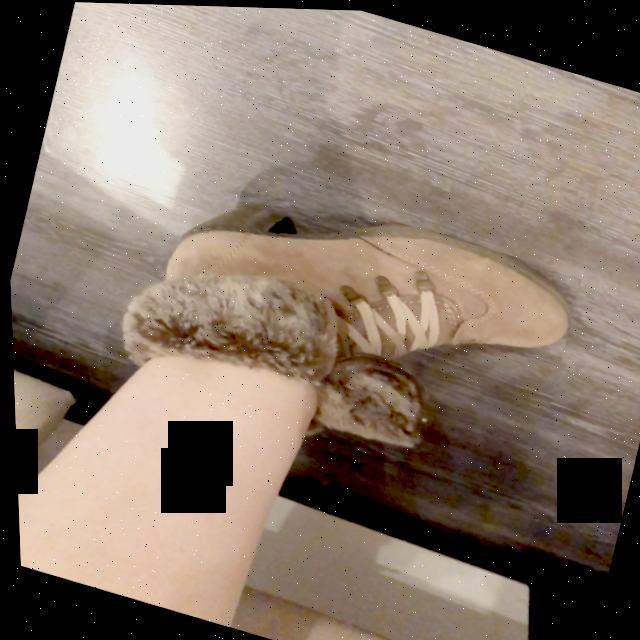shoe: (162, 225, 567, 359)
